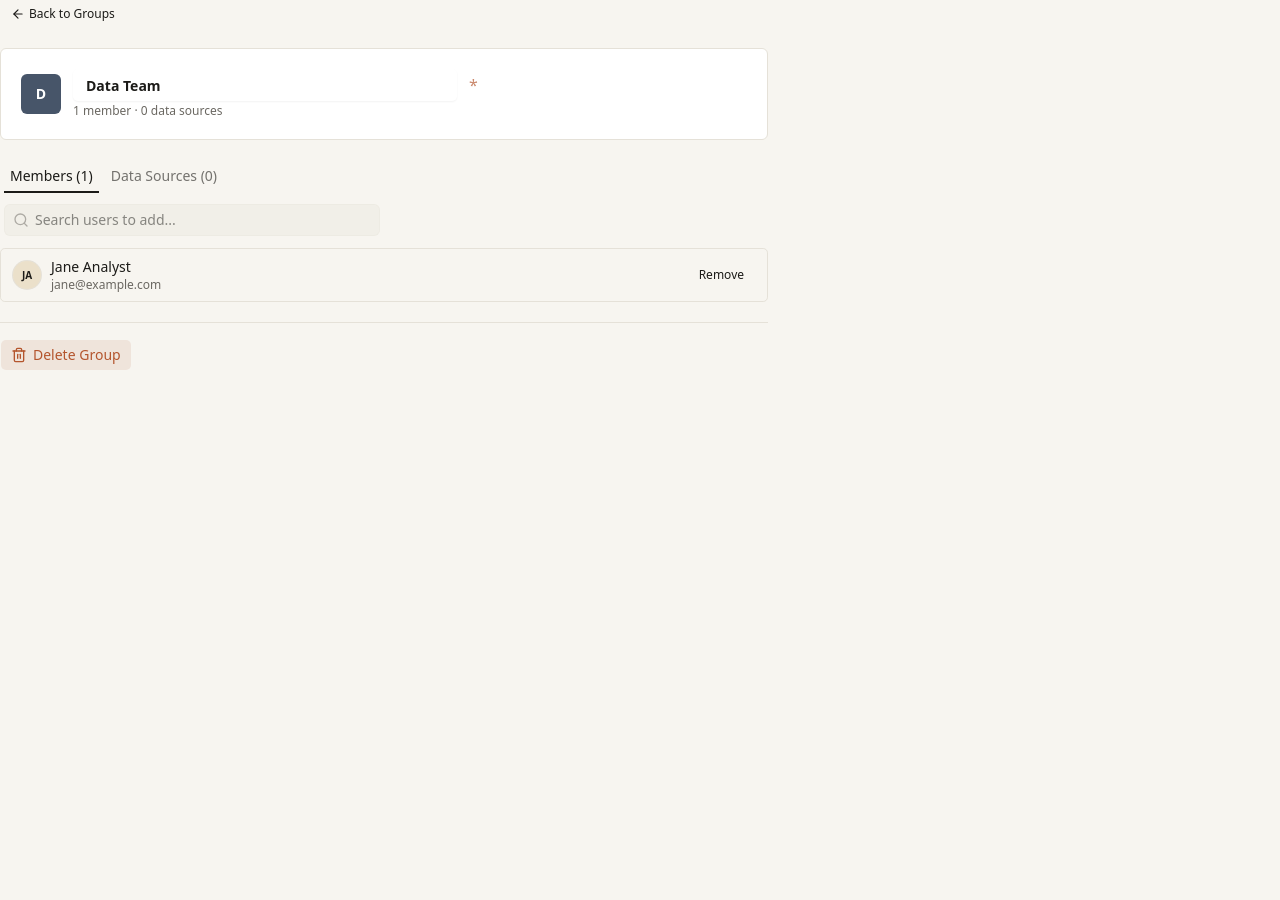
Test: GroupDetail membership changes › adds the searched user to the group and reloads the roster from the backend
Expected: the text "Jane Analyst" is shown, [51,257,131,276]
In the dropdown with placeholder "Search users to add...": coordinates (204, 220) [29,210,379,230], type "Ada"
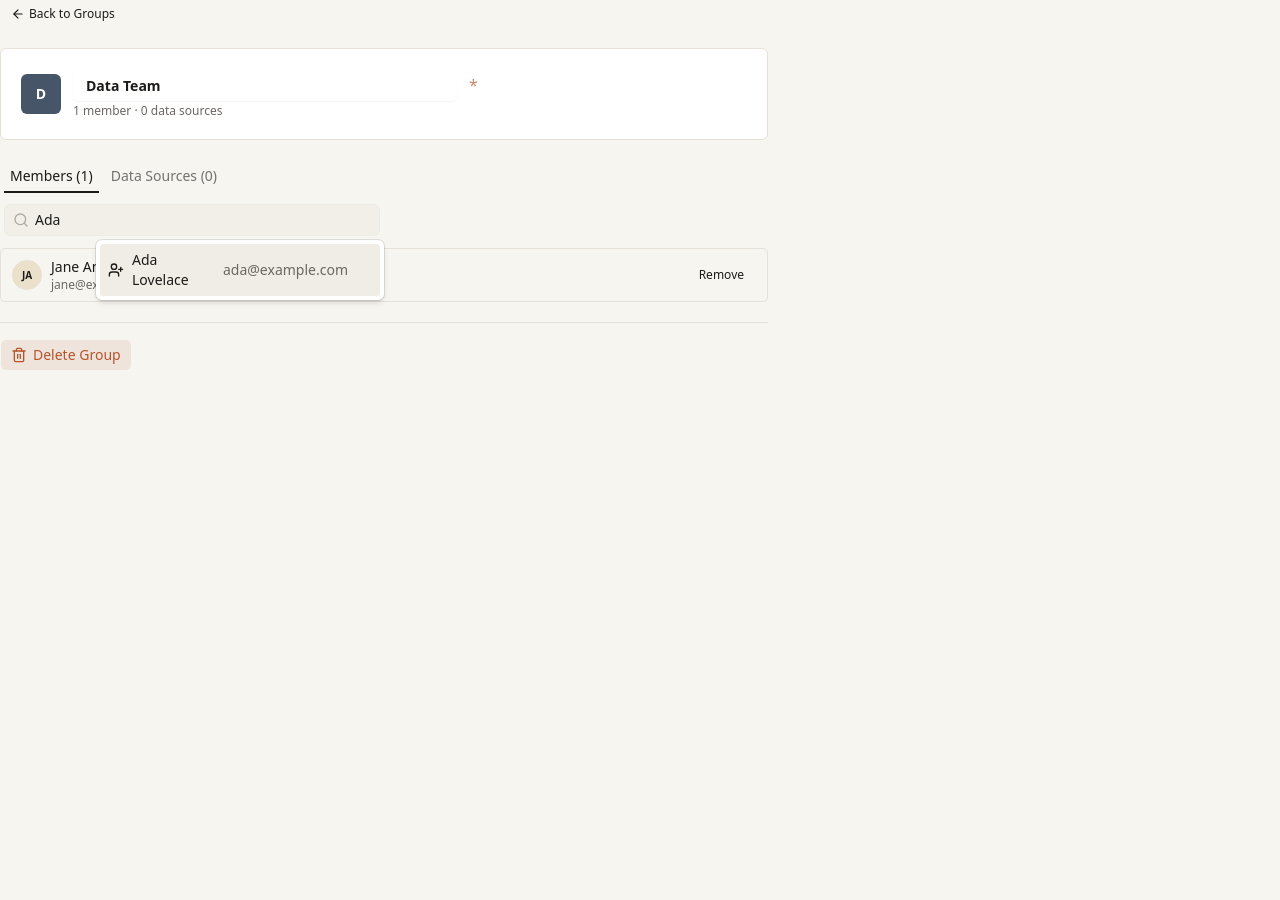
Click the option "Ada Lovelace ada@example.com": coordinates (240, 270) [100,244,380,296]
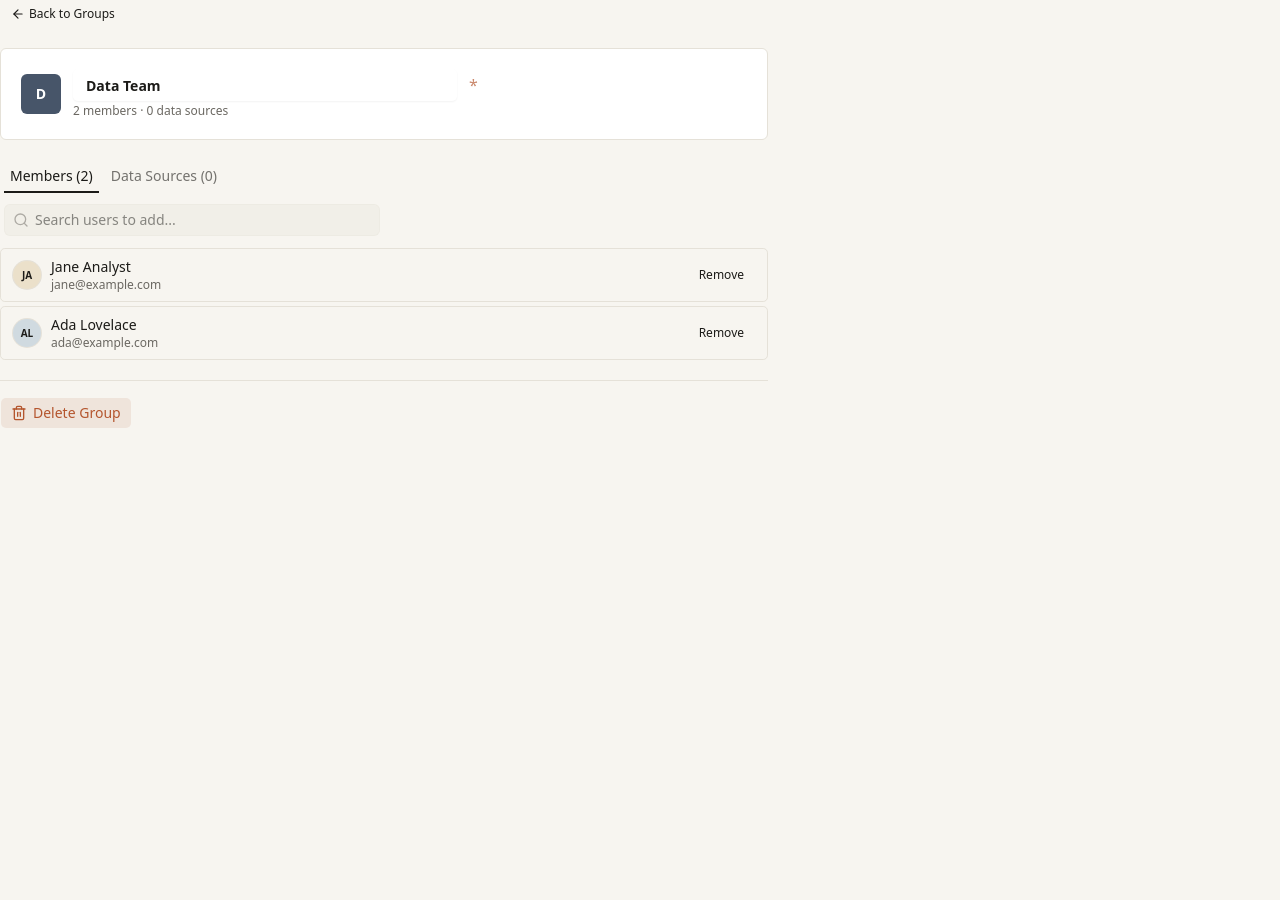
Result: the text "Ada Lovelace" is shown at [51,315,137,334]
Result: the tab "Members (2)" is shown at [3,164,100,188]
